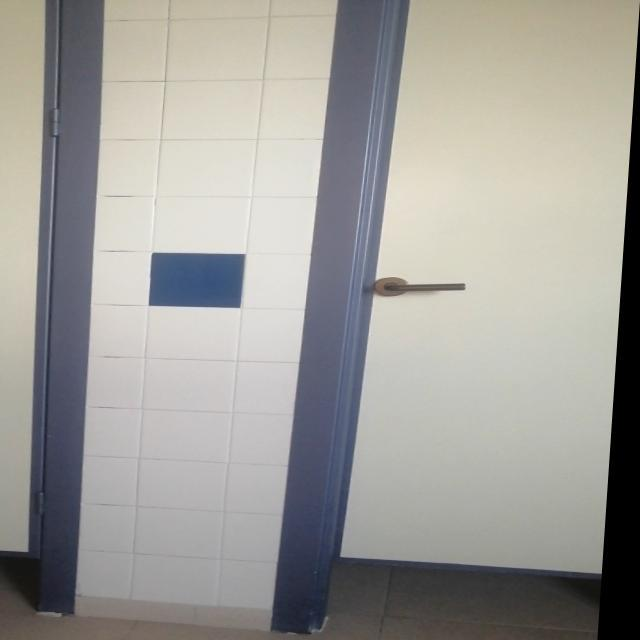door_handle: (386, 282, 475, 294)
